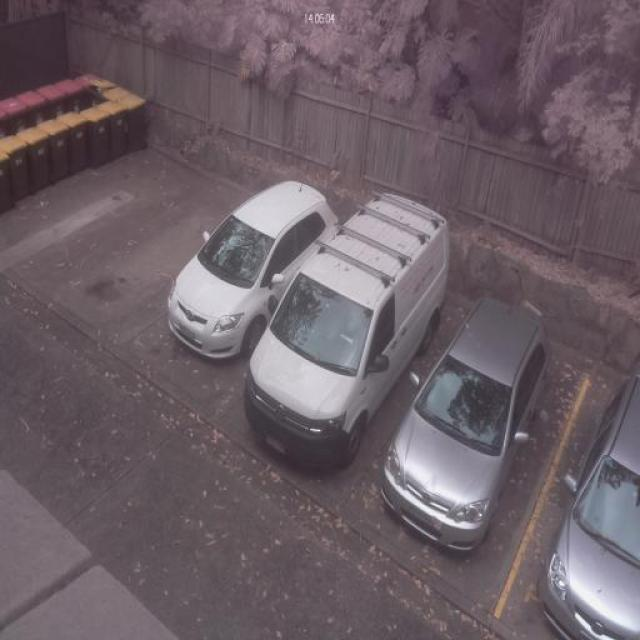Legalparking: (145, 122, 639, 640)
